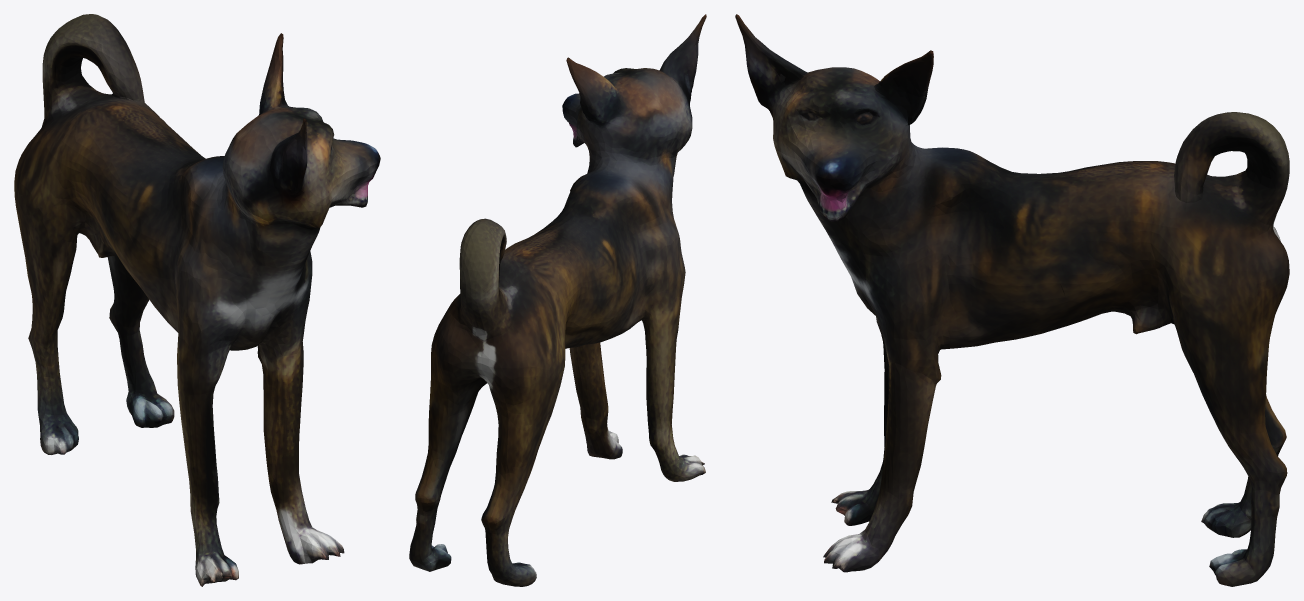
3 renders of one model, left to right at view 1: azimuth 30°, elevation 25°; view 2: azimuth 150°, elevation 25°; view 3: azimuth 270°, elevation 25°, orthographic. The views are drawn at different scales.
Parts seen in each view (by area): view 1: world; view 2: world; view 3: world.
Part boxes in pixels (left/top/right/bottom): world: left=14, top=14, right=380, bottom=586; world: left=409, top=14, right=706, bottom=586; world: left=735, top=14, right=1289, bottom=586.
Size of the model in its own units: 0.3611 by 0.9996 by 0.965.
1 material, 1 textured.
